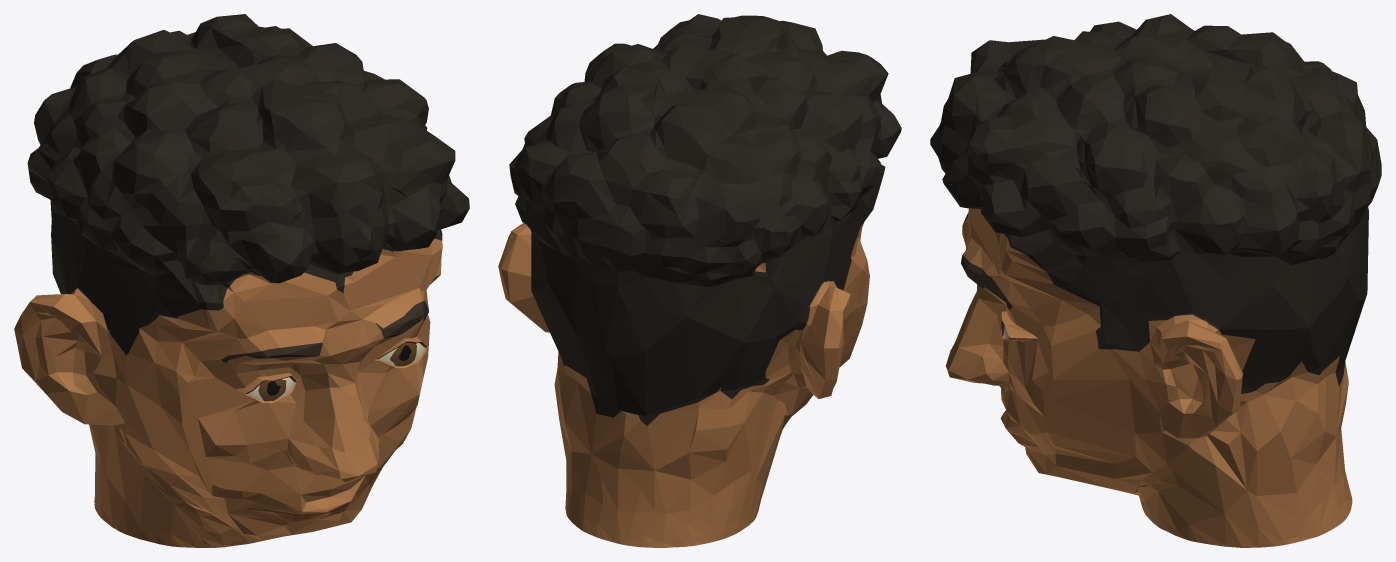
Rendered from kai-head.glb.
3 renders of one model, left to right at view 1: azimuth 30°, elevation 25°; view 2: azimuth 150°, elevation 25°; view 3: azimuth 270°, elevation 25°, orthographic. The views are drawn at different scales.
Parts seen in each view (by area): view 1: Black curls, Skin, Brows, Lips, Iris; view 2: Black curls, Skin; view 3: Black curls, Skin, Brows.
Boxes of the visible parts, x1,y1,x2,y2 form: Black curls: [27, 14, 469, 355]; Skin: [14, 238, 442, 547]; Brows: [144, 300, 428, 362]; Lips: [255, 484, 366, 521]; Iris: [258, 343, 416, 401]; Black curls: [509, 14, 901, 425]; Skin: [498, 190, 879, 547]; Black curls: [930, 14, 1381, 393]; Skin: [946, 208, 1352, 547]; Brows: [961, 213, 1100, 323].
Bounding box in the file's own units: 0.142 × 0.167 × 0.1505.
